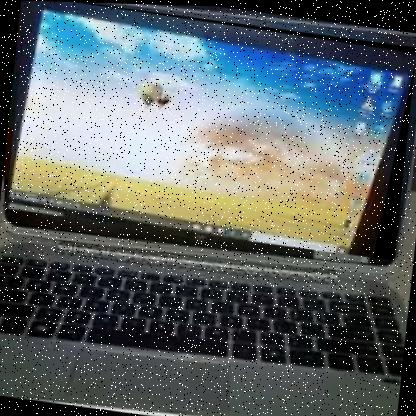Normal: (4, 0, 415, 261)
